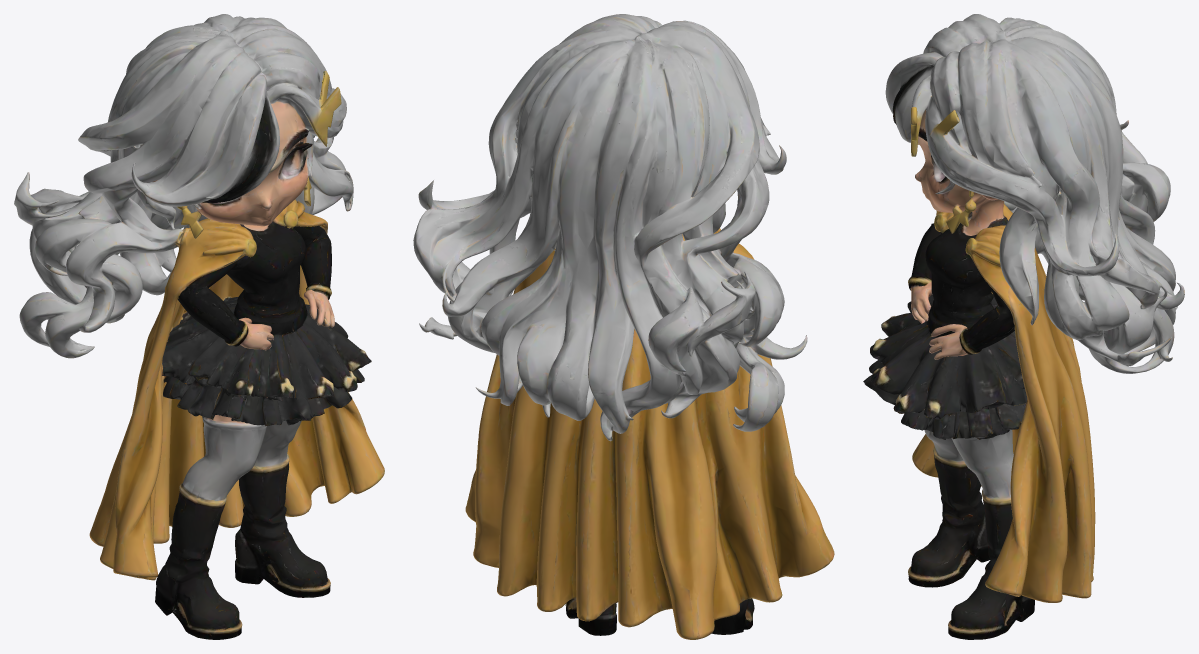
The model's file is hero-zelane-compressed.glb.
3 views of the same model, side by side, from view 1: azimuth 30°, elevation 25°; view 2: azimuth 150°, elevation 25°; view 3: azimuth 270°, elevation 25° (orthographic). The views are drawn at different scales.
Bounding box in the file's own units: 0.5958 × 0.9981 × 0.5101.
Materials: 1 (1 with a texture image).
